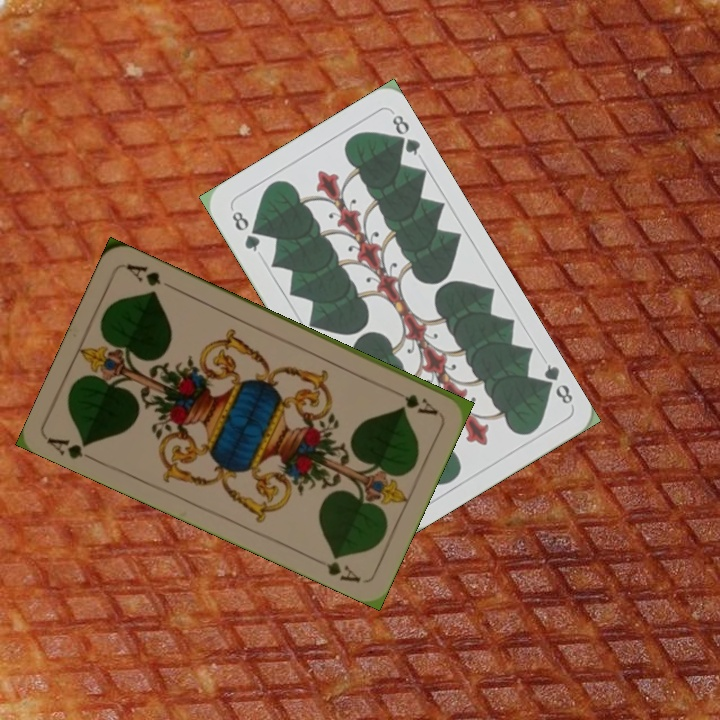G8: (535, 359, 576, 407), (227, 206, 263, 255)
GA: (43, 433, 101, 466), (400, 390, 441, 418)
